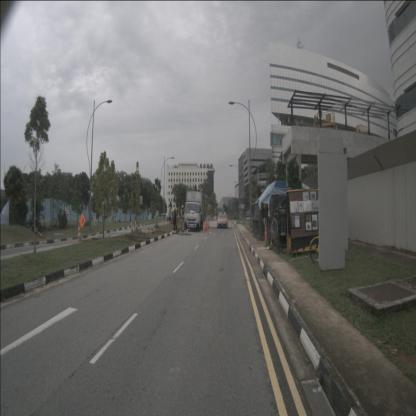movable_object-trafficcone: (76, 224, 84, 246), (263, 222, 268, 242), (130, 221, 134, 236), (134, 220, 138, 235), (202, 223, 206, 233), (207, 220, 210, 228), (204, 218, 207, 226), (206, 219, 209, 226), (205, 223, 207, 231)
vehicle-car: (217, 211, 228, 228)
vehicle-truck: (184, 190, 205, 232)
